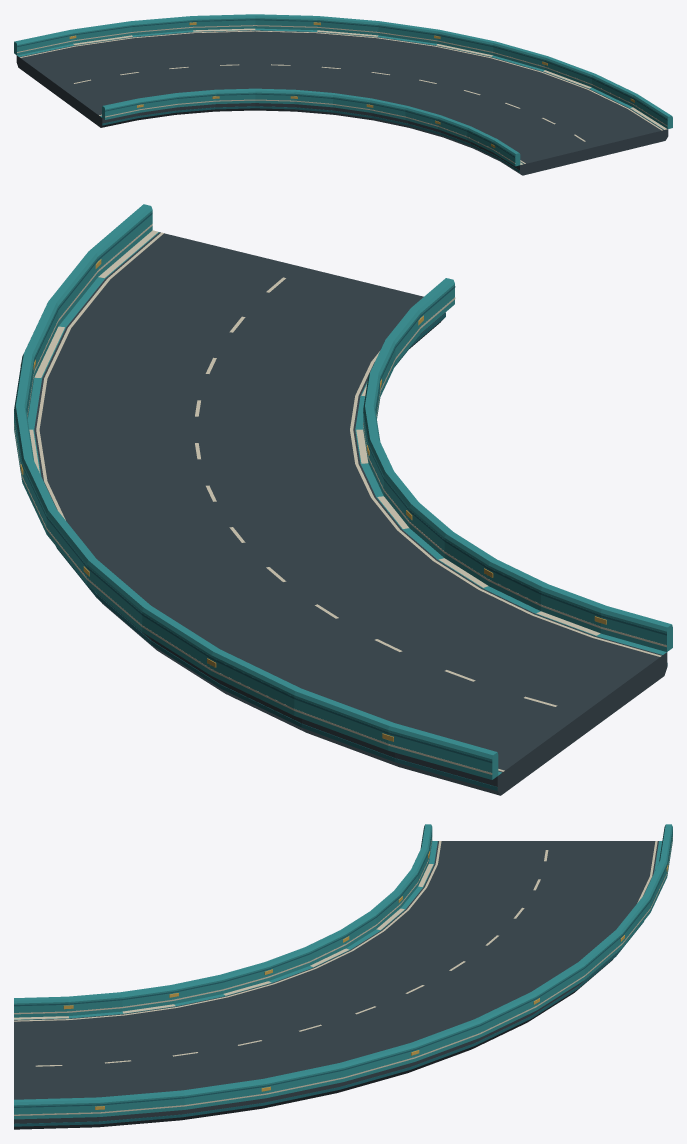
File: track_curve_90_01.glb
The picture shows the model from 3 angles, top to bottom: view 1: azimuth 30°, elevation 25°; view 2: azimuth 150°, elevation 25°; view 3: azimuth 270°, elevation 25°; orthographic projection. The views are drawn at different scales.
Visible parts, largest first — view 1: track_curve_90_01__Surface, track_curve_90_01__RailRight, track_curve_90_01__RailLeft; view 2: track_curve_90_01__Surface, track_curve_90_01__RailRight, track_curve_90_01__RailLeft; view 3: track_curve_90_01__Surface, track_curve_90_01__RailRight, track_curve_90_01__RailLeft.
Part boxes in pixels (x1,y1,x2,y2): track_curve_90_01__Surface: (16,28,668,175); track_curve_90_01__RailRight: (14,14,672,128); track_curve_90_01__RailLeft: (102,88,520,166); track_curve_90_01__Surface: (28,230,667,795); track_curve_90_01__RailRight: (14,204,498,779); track_curve_90_01__RailLeft: (363,278,672,651); track_curve_90_01__Surface: (14,841,662,1129); track_curve_90_01__RailRight: (14,824,672,1119); track_curve_90_01__RailLeft: (14,824,432,1017).
Size of the model in its own units: 39.45 by 2.1 by 39.45.
